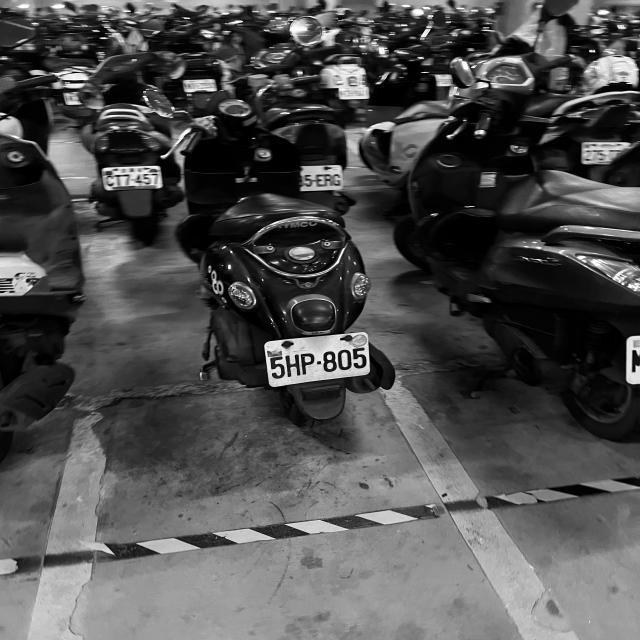-: (316, 361, 322, 365), (131, 178, 135, 182), (312, 179, 316, 183)
0: (337, 349, 352, 371)
2: (584, 150, 592, 162)
3: (135, 174, 143, 185)
5: (269, 355, 285, 380), (352, 346, 368, 370), (304, 174, 312, 188), (142, 174, 152, 184)
7: (122, 173, 131, 186), (151, 173, 159, 185)
8: (322, 350, 338, 373)
E: (316, 175, 324, 188)
G: (333, 174, 341, 186)
H: (284, 353, 302, 378)
P: (300, 353, 317, 375)
R: (324, 174, 332, 187)
plate: (265, 333, 370, 386), (103, 166, 162, 190), (183, 79, 217, 92)
vc: (105, 174, 115, 187)
